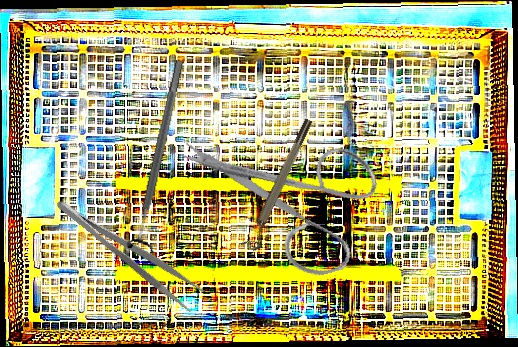Dressing Forceps: (52, 184, 208, 316)
Fixation Ring: (124, 57, 195, 254), (240, 117, 321, 253)
Iris Scissors: (175, 97, 396, 304)
